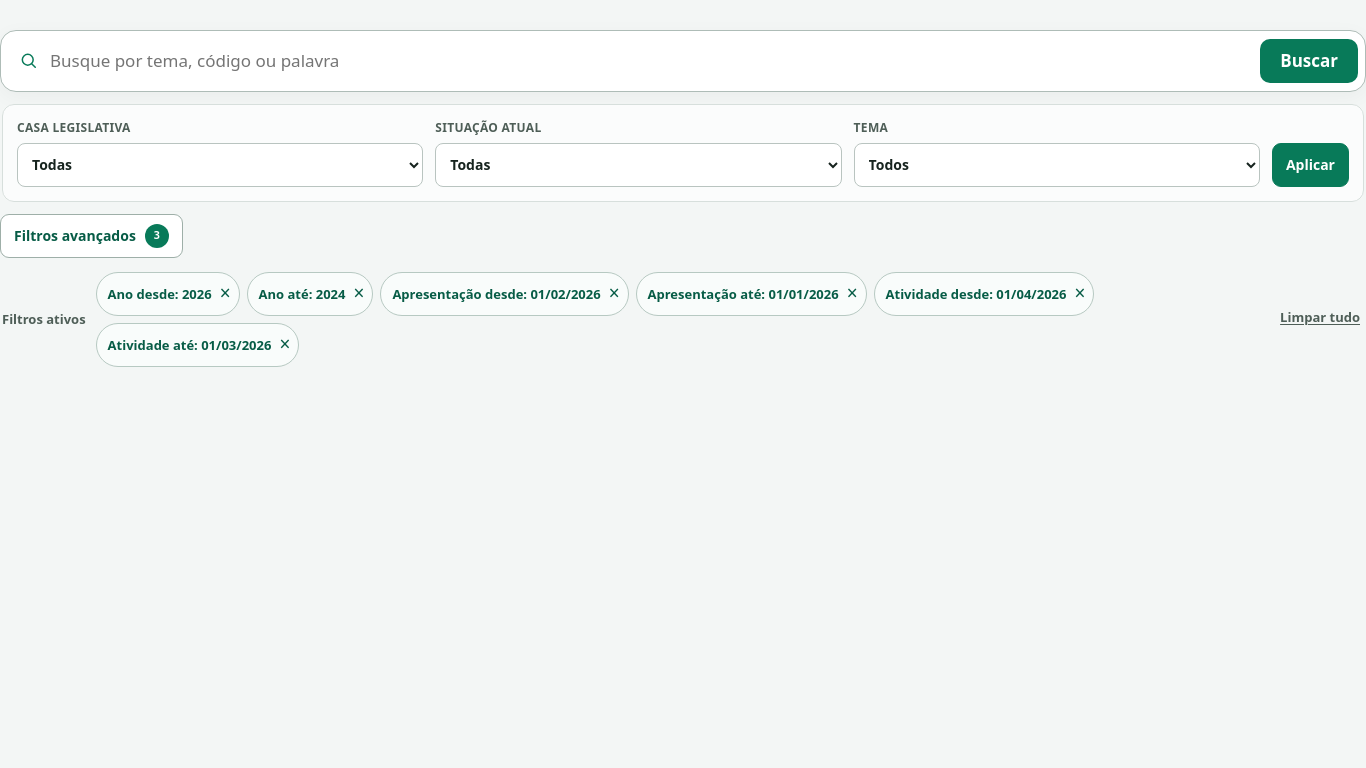
Test case: advanced feed filters › shows Portuguese interval errors, disables Apply and skips the count preview
Click the button "Filtros avançados 3" at (91, 236), box [0,214,183,258]
Wait 1000 ms
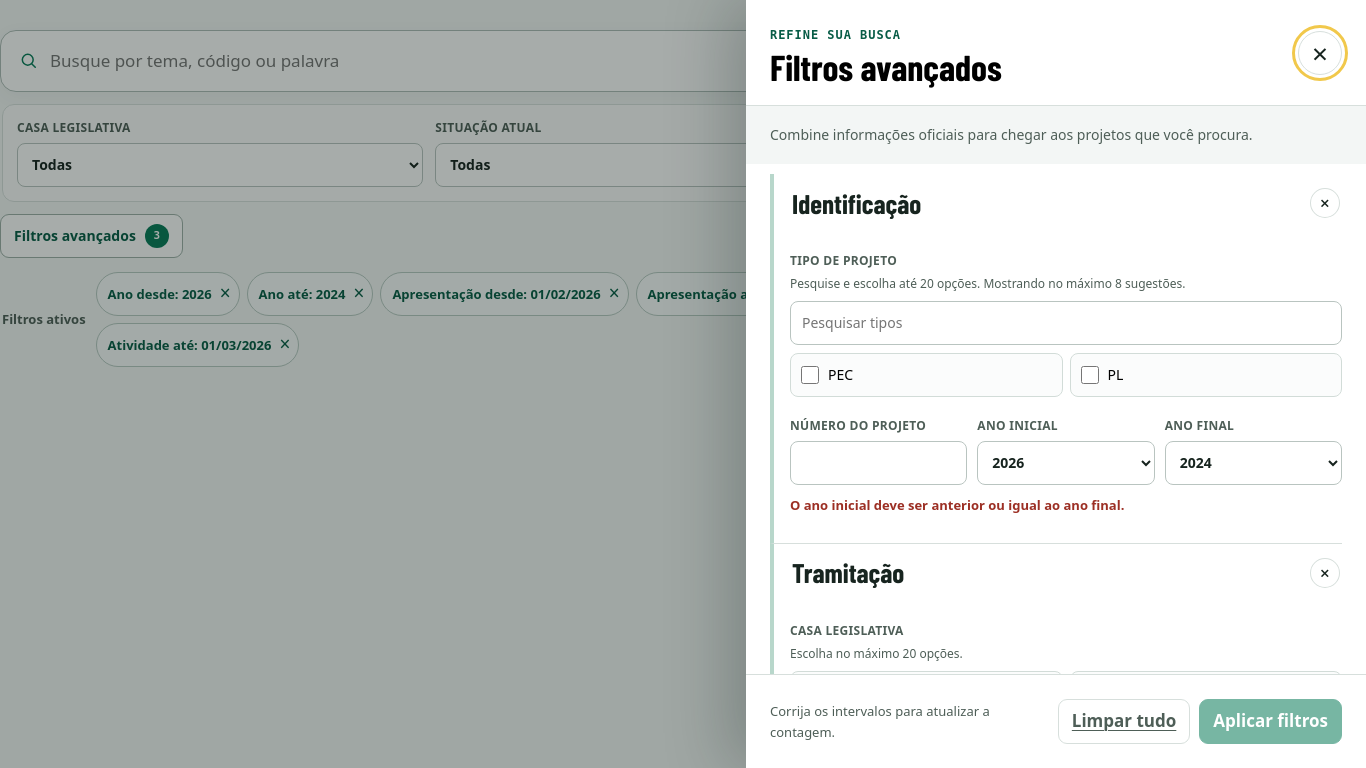
Expected: the button "Aplicar" is enabled, [1272,143,1349,187]
Now the button "Aplicar filtros" is disabled, box [1199,699,1342,744]
